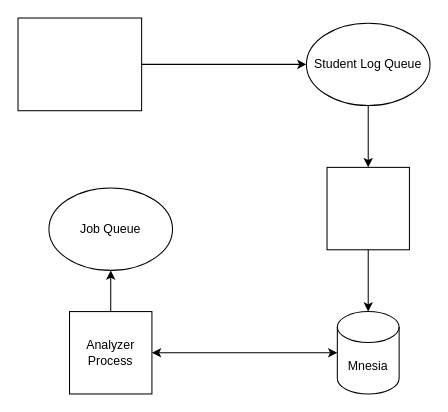
Image size: 448x412. Some labels were removed from this diagram. The box of each missing label's shape, as (x1, y1, x2, y2) in pixels:
Frontend API: (17, 17, 142, 111)
Store Process: (326, 166, 409, 250)
